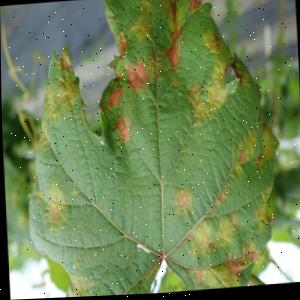Folha: (16, 0, 284, 299)
Fungo: (94, 0, 241, 148), (39, 44, 86, 129), (32, 175, 71, 232), (227, 130, 272, 177), (116, 28, 148, 92), (185, 218, 219, 260), (184, 79, 211, 129), (213, 213, 240, 247), (169, 187, 193, 223), (164, 27, 184, 70), (225, 253, 258, 278), (143, 50, 167, 83), (124, 59, 147, 92), (113, 113, 131, 146), (165, 43, 182, 70), (64, 75, 77, 106), (190, 266, 201, 291), (184, 0, 201, 14)
